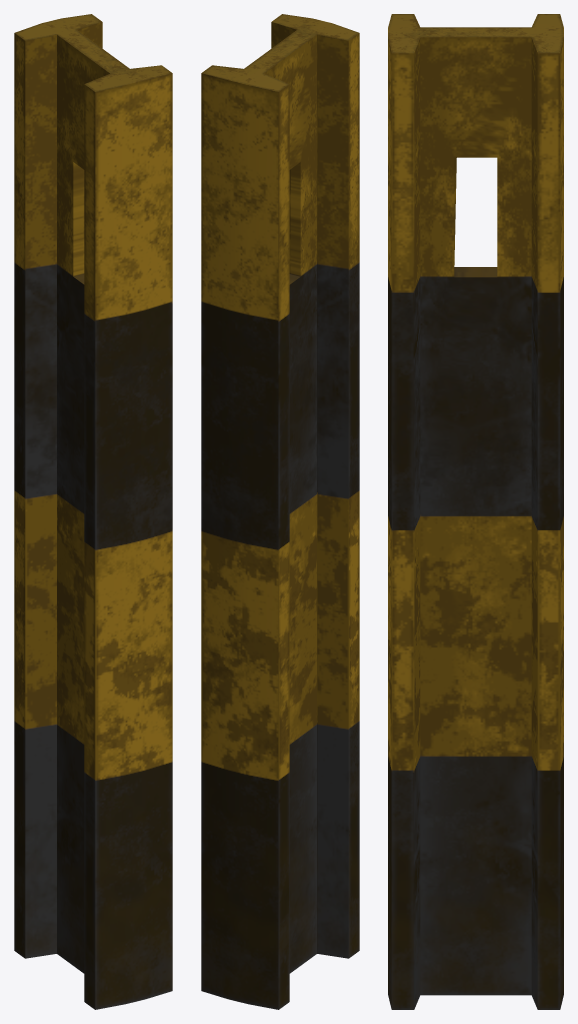
File: Fence_Passage.fbx
3 renders of one model, left to right at view 1: azimuth 30°, elevation 25°; view 2: azimuth 150°, elevation 25°; view 3: azimuth 270°, elevation 25°, orthographic. The views are drawn at different scales.
Parts seen in each view (by area): view 1: Beam.002; view 2: Beam.002; view 3: Beam.002.
Part boxes in pixels (x1,y1,x2,y2): Beam.002: (14, 14, 172, 1009); Beam.002: (201, 14, 359, 1009); Beam.002: (388, 14, 563, 1009).
Size of the model in its own units: 7.7 by 87.42 by 14.53.
